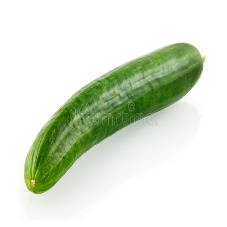cucumber: (23, 42, 206, 199)
